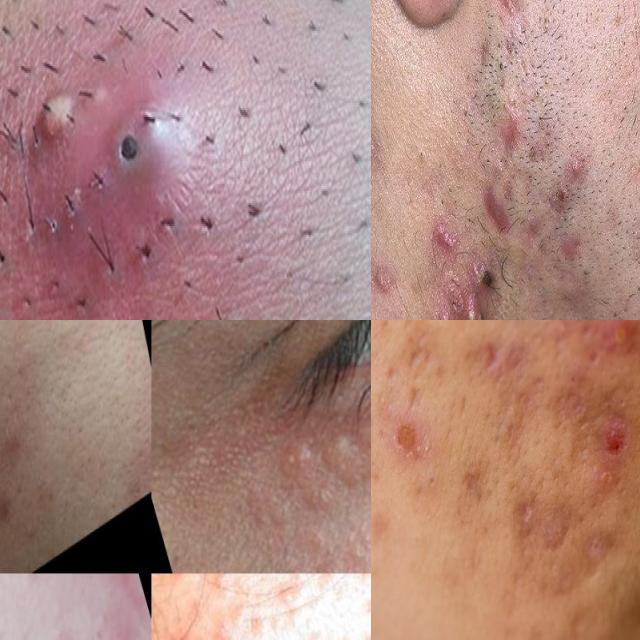acne_scars: (482, 172, 509, 244)
comedone: (114, 115, 147, 190), (318, 573, 365, 616), (79, 597, 122, 640), (434, 214, 463, 263), (15, 506, 41, 558), (270, 576, 302, 614), (205, 614, 241, 640), (360, 587, 371, 636), (316, 625, 348, 640), (350, 573, 371, 587)
cystic: (444, 270, 514, 320)
papule: (590, 320, 640, 367), (0, 403, 30, 477)
syringoma: (251, 437, 345, 541), (317, 410, 371, 495)
